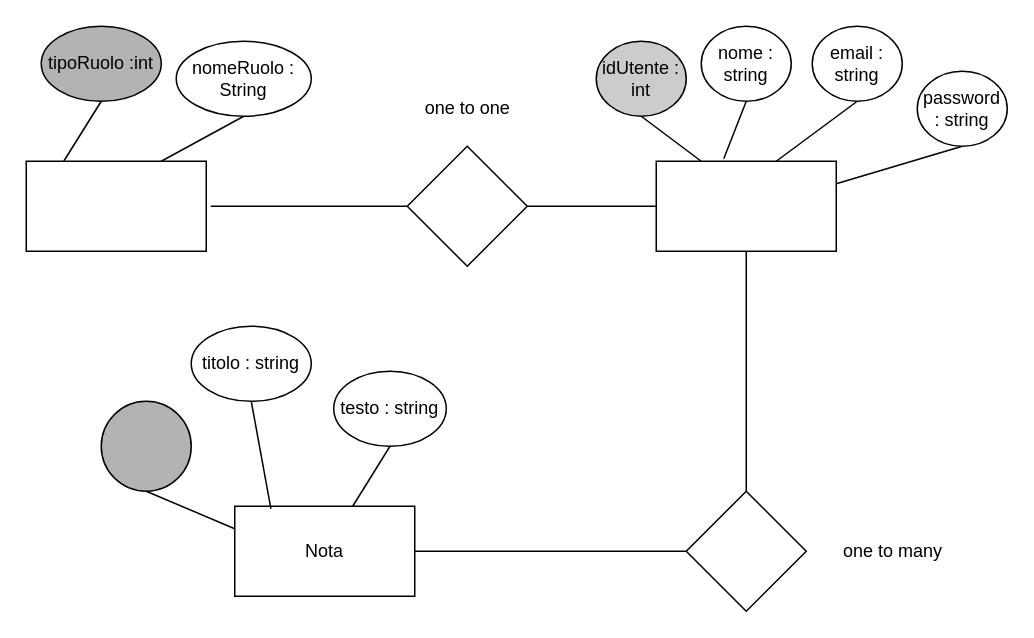
Image size: 1034x638. Some labels were removed from this diagram. Here are the shapes that lost their labels. From the top down, the centre of each, then its label:
At (115,205): "Ruolo".
At (745,205): "Utente".
At (145,445): "idNota : int".
